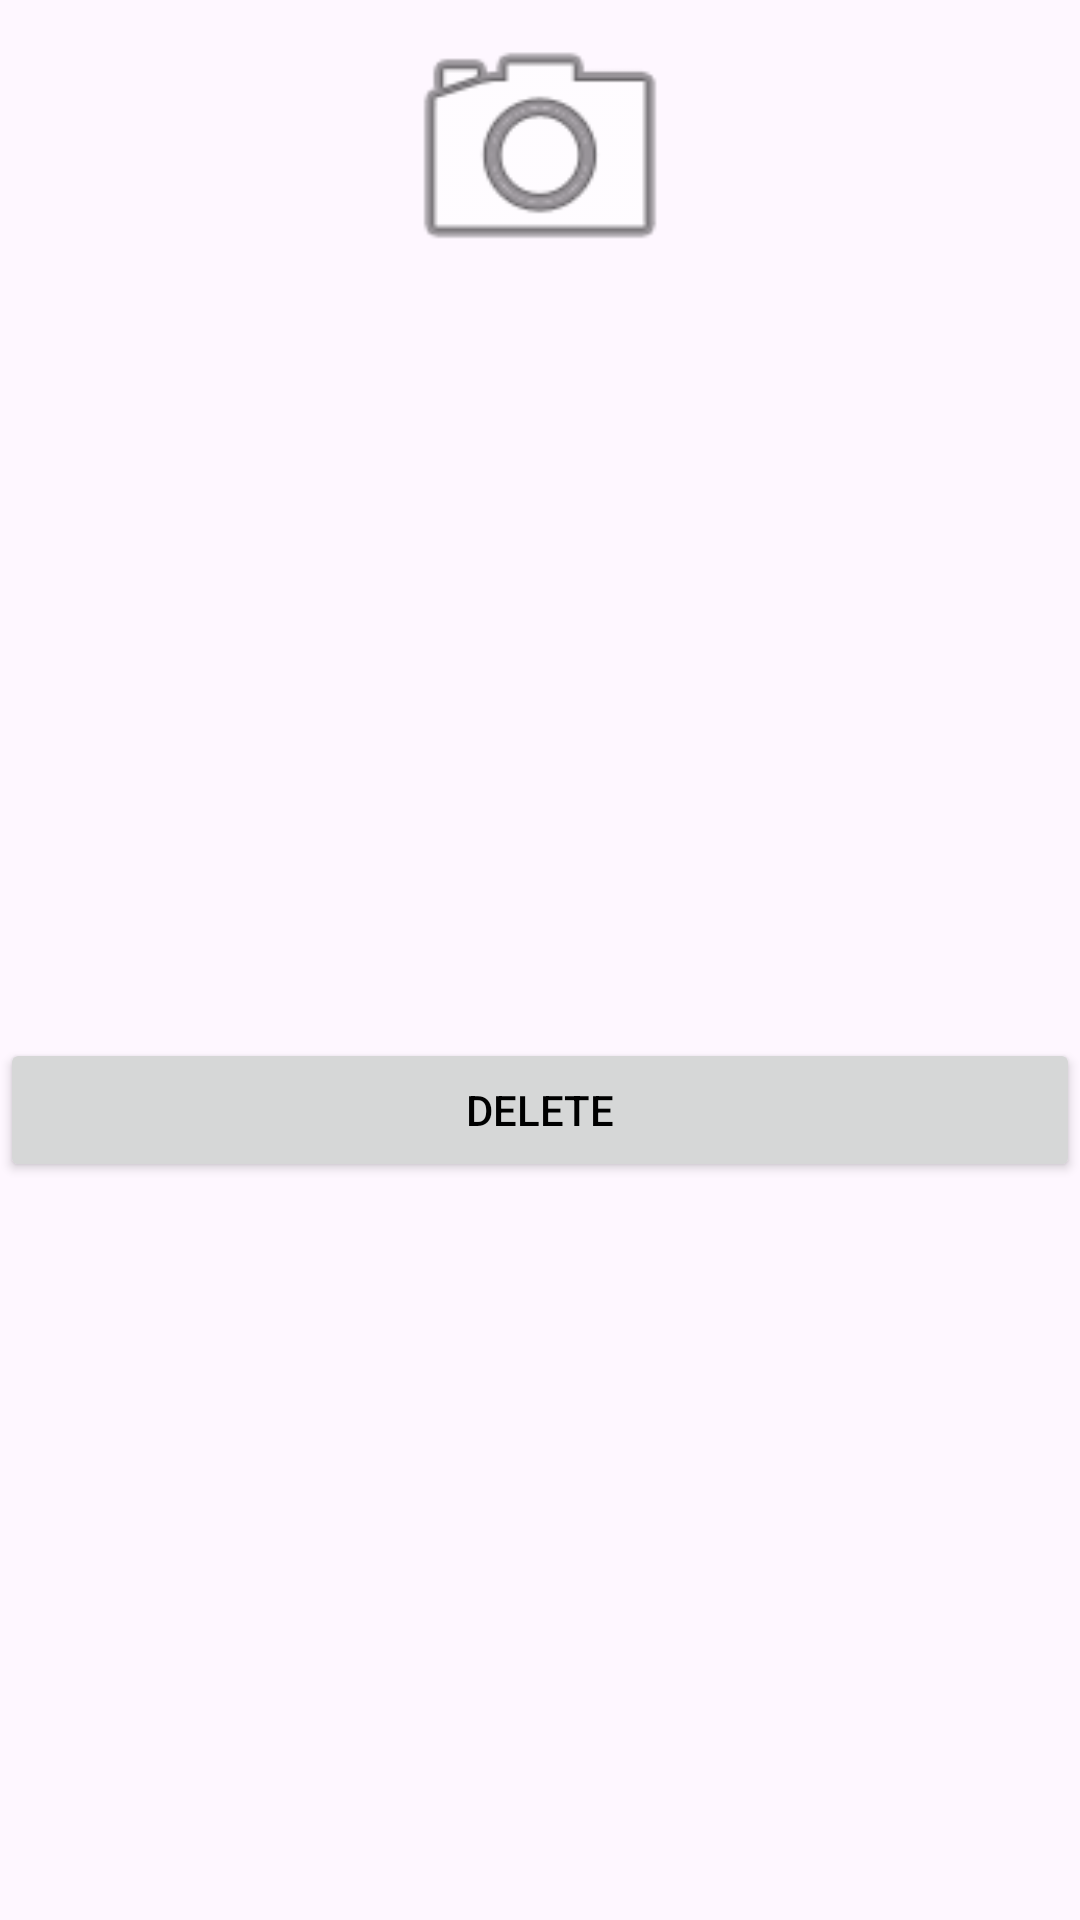

Icons on this 1080*1920 Android screen, each with the point to tap as (x=x, y=y):
camera: (x=540, y=145)
